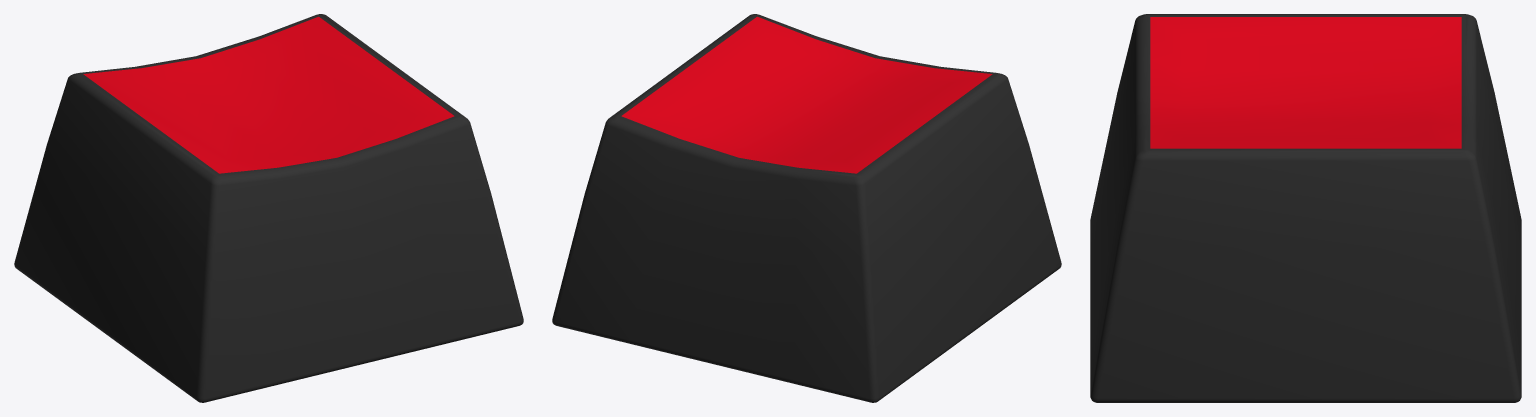
Rendered from key_master.glb.
The picture shows the model from 3 angles, left to right: view 1: azimuth 30°, elevation 25°; view 2: azimuth 150°, elevation 25°; view 3: azimuth 270°, elevation 25°; orthographic projection. The views are drawn at different scales.
Parts seen in each view (by area): view 1: Cube; view 2: Cube; view 3: Cube.
Part boxes in pixels (x1=…): Cube: x1=14, y1=14, x2=523, y2=402; Cube: x1=552, y1=14, x2=1061, y2=402; Cube: x1=1090, y1=14, x2=1521, y2=402.
Size of the model in its own units: 0.0179 by 0.0106 by 0.0179.
